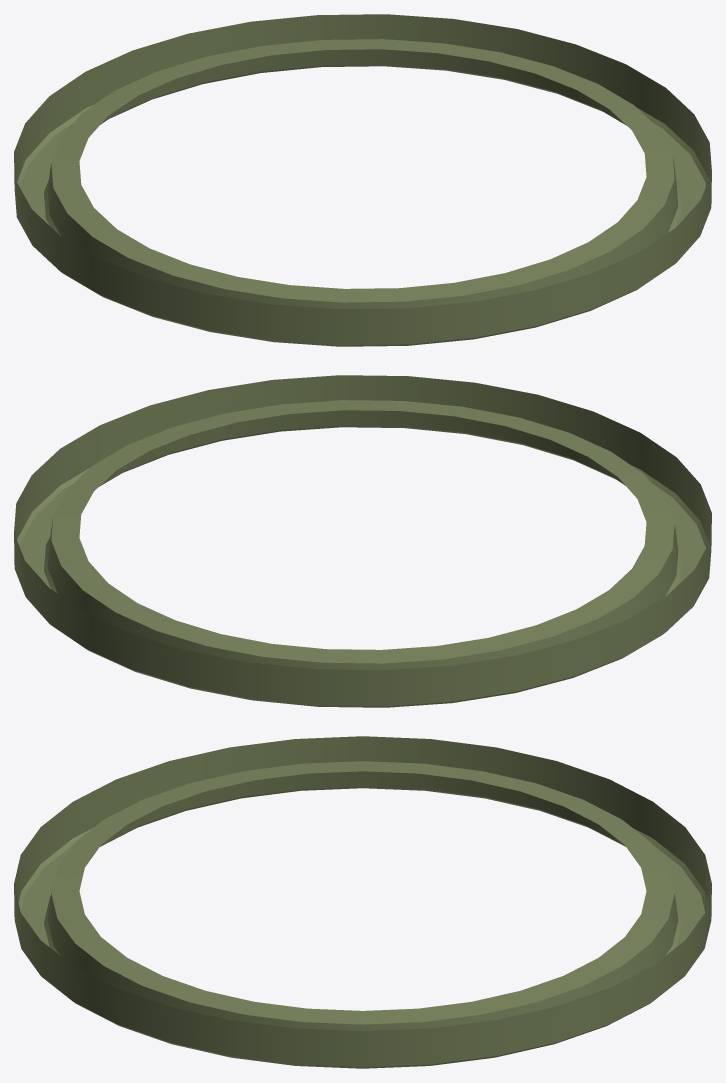
Rendered from PC_Top.fbx.
The picture shows the model from 3 angles, top to bottom: view 1: azimuth 30°, elevation 25°; view 2: azimuth 150°, elevation 25°; view 3: azimuth 270°, elevation 25°; orthographic projection.
Visible parts, largest first — view 1: PC_Top; view 2: PC_Top; view 3: PC_Top.
Boxes of the visible parts, x1,y1,x2,y2 form: PC_Top: (14, 14, 711, 346); PC_Top: (14, 375, 711, 707); PC_Top: (14, 736, 711, 1068).
Bounding box in the file's own units: 0.5207 × 0.0324 × 0.5207.
